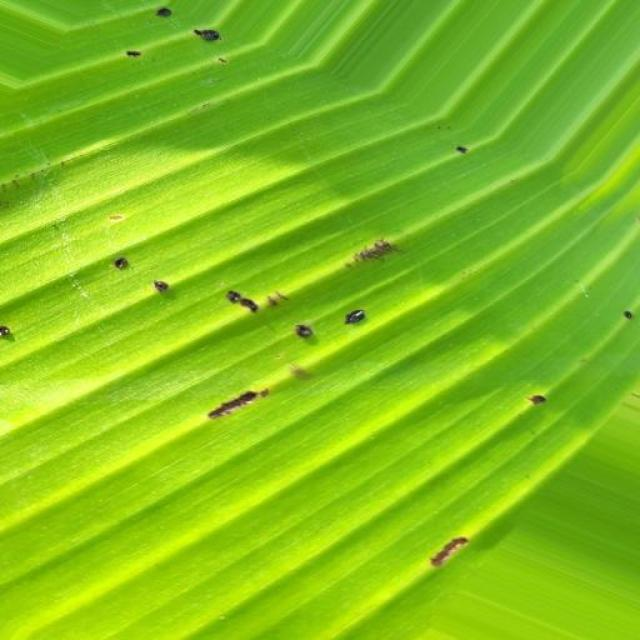Black_rot: (100, 228, 417, 442), (130, 3, 226, 80), (392, 534, 489, 572), (514, 370, 569, 419), (0, 299, 34, 370), (422, 134, 483, 170), (611, 303, 637, 333)
